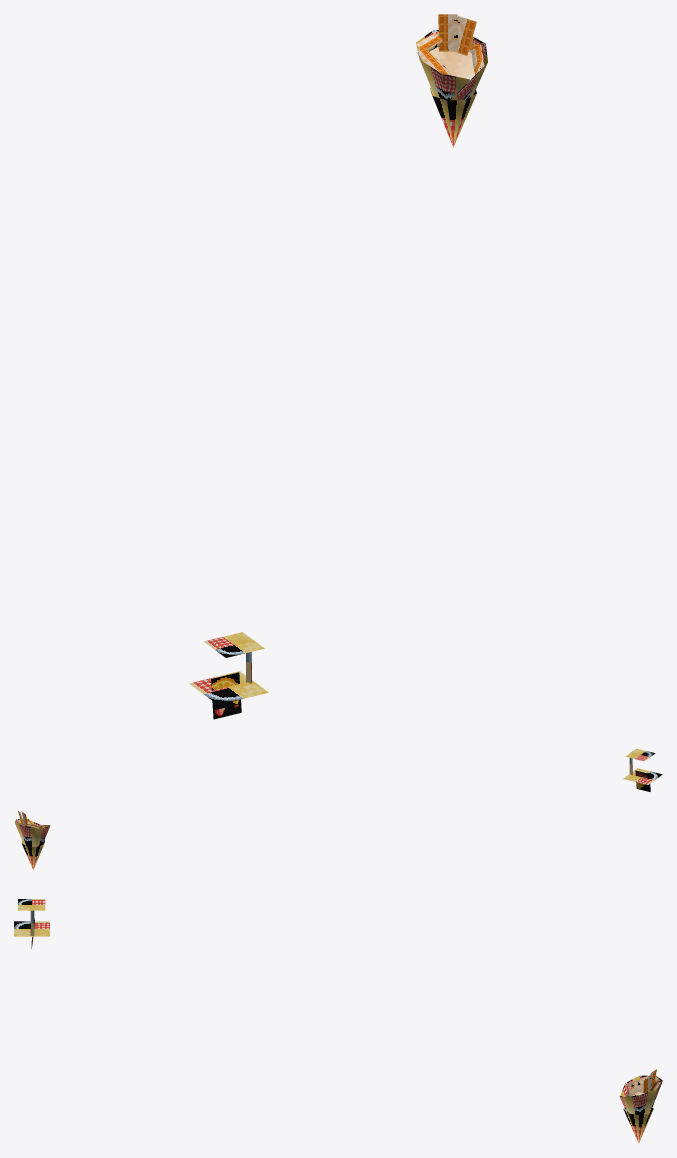
The picture shows the model from 3 angles, top to bottom: view 1: azimuth 30°, elevation 25°; view 2: azimuth 150°, elevation 25°; view 3: azimuth 270°, elevation 25°; orthographic projection. The views are drawn at different scales.
Visible parts, largest first — view 1: 5562u_crep00_ss; view 2: 5562u_crep00_ss; view 3: 5562u_crep00_ss.
Part boxes in pixels (x1,y1,x2,y2): 5562u_crep00_ss: (189, 14, 487, 719); 5562u_crep00_ss: (14, 748, 662, 869); 5562u_crep00_ss: (14, 899, 662, 1143).
Bounding box in the file's own units: 5.44 × 1 × 6.42.
Materials: 4 (4 with a texture image).
